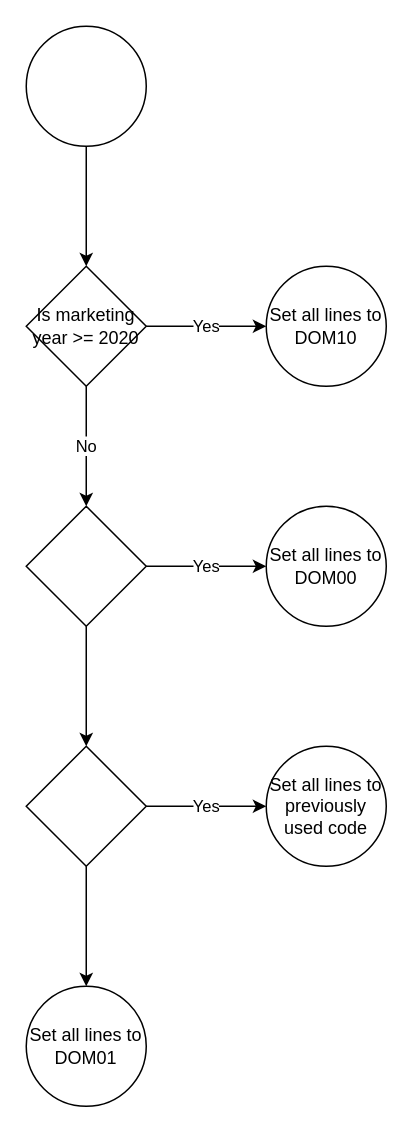
The diagram is 413 pixels wide and 1133 high, and some of its shapes have lost their labels. The centre of each missing label's shape, as x and y in pixels:
"Has a domestic fund code been used before?" belongs at (85,805).
"Is first payment request?" belongs at (85,565).
"Start" belongs at (85,85).
